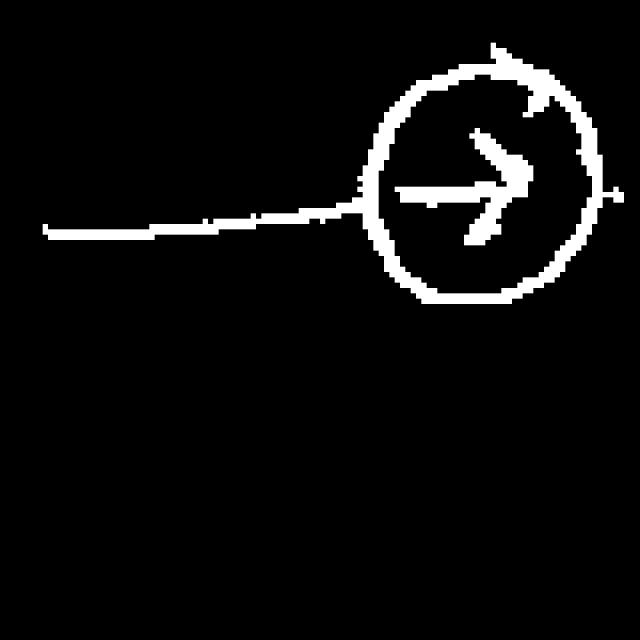current_source: (351, 35, 603, 308)
